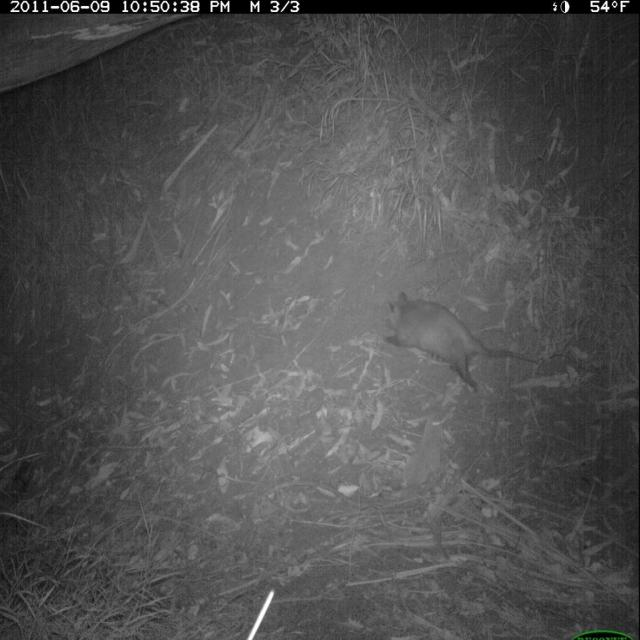opossum: (380, 269, 548, 403)
